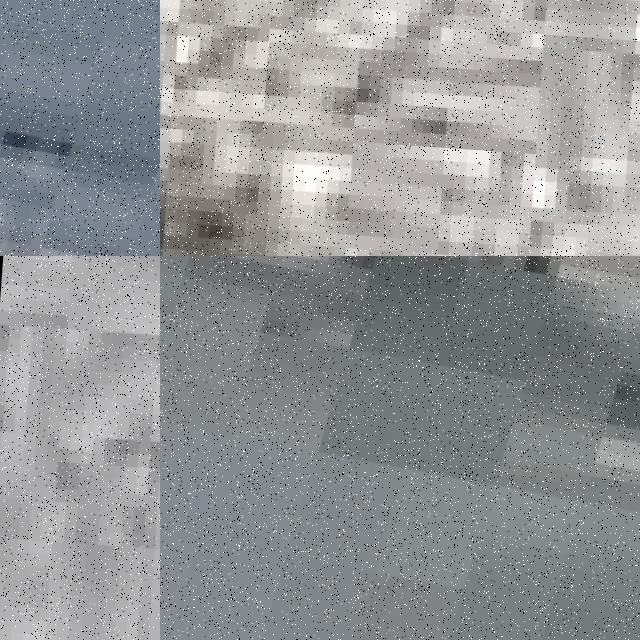drone: (160, 256, 640, 640), (0, 0, 160, 256)
